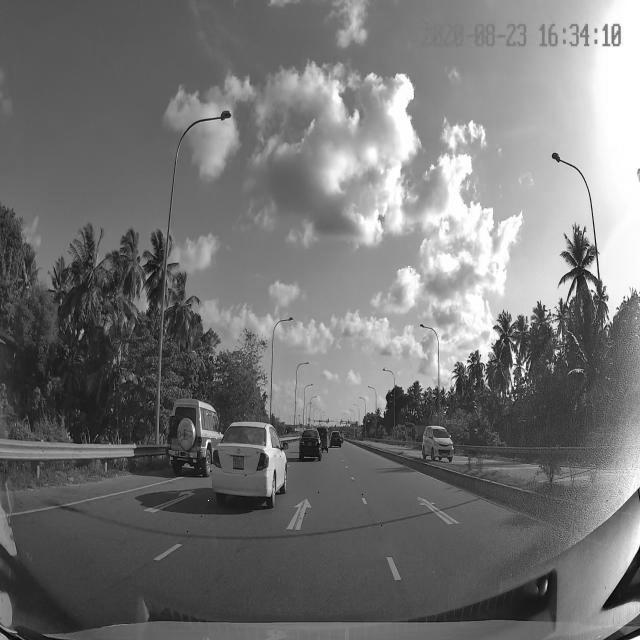forward: (163, 487, 391, 546)
